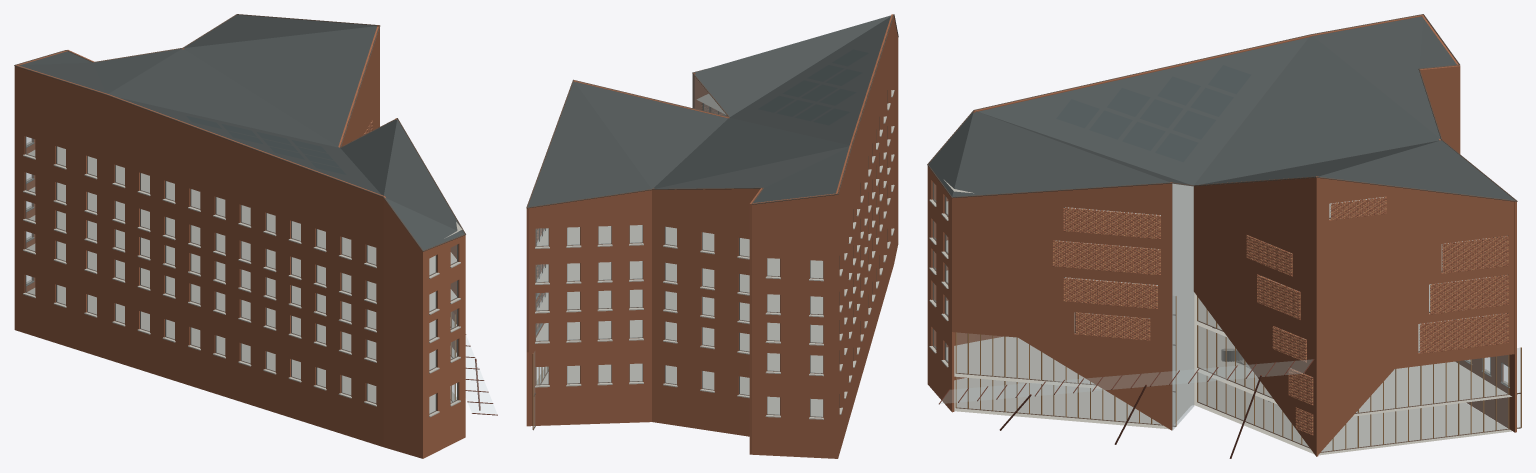
File: saw-exterior-4432c0ef1932.glb
3 views of the same model, side by side, from view 1: azimuth 30°, elevation 25°; view 2: azimuth 150°, elevation 25°; view 3: azimuth 270°, elevation 25° (orthographic). The views are drawn at different scales.
Visible parts, largest first — view 1: SAW.001; view 2: SAW.001; view 3: SAW.001.
Boxes of the visible parts, box(x1,y1,x2,y2) form: SAW.001: box(14, 14, 497, 458); SAW.001: box(526, 14, 898, 458); SAW.001: box(927, 14, 1521, 458).
Bounding box in the file's own units: 37.7 × 28.01 × 53.74.
